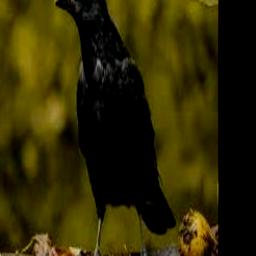Crow: (54, 0, 176, 256)
